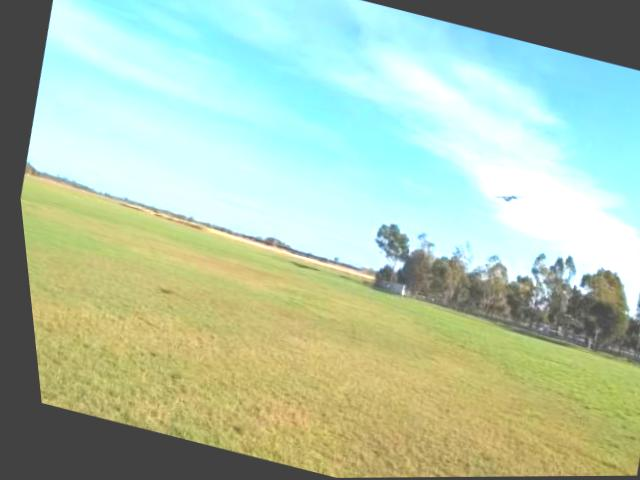uav: (480, 179, 529, 217)
